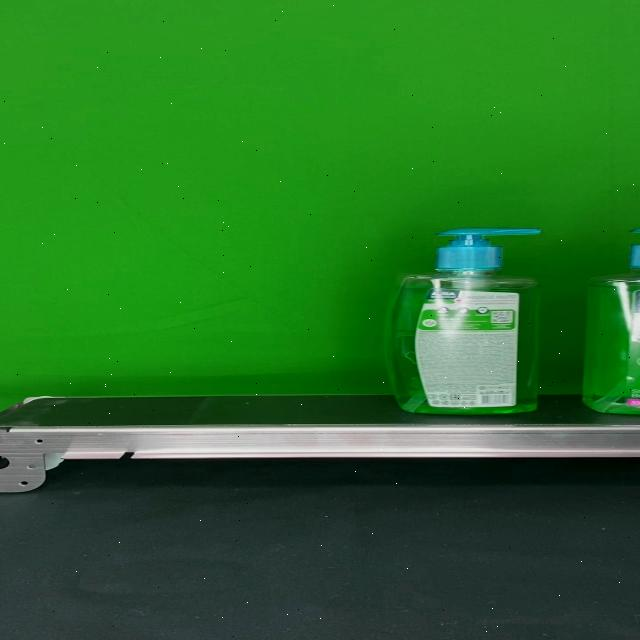Bottle: (386, 228, 541, 415)
Cap: (434, 228, 542, 270)
